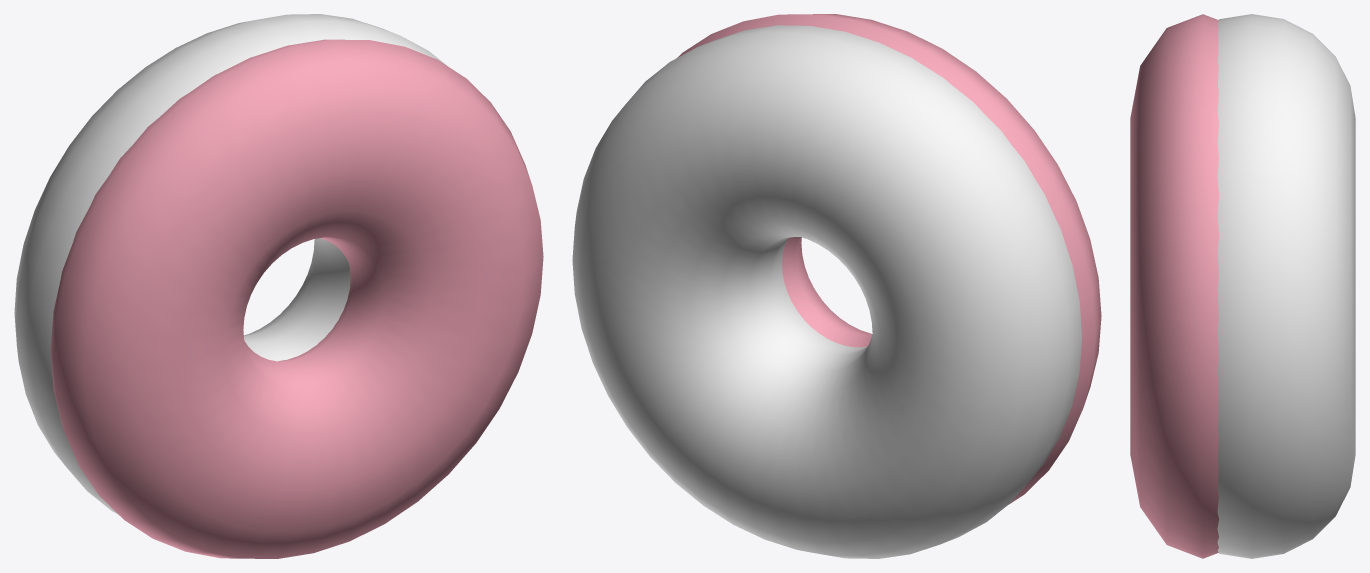
The model's file is shape_donut.glb.
3 renders of one model, left to right at view 1: azimuth 30°, elevation 25°; view 2: azimuth 150°, elevation 25°; view 3: azimuth 270°, elevation 25°, orthographic. The views are drawn at different scales.
Visible parts, largest first — view 1: shape_donut; view 2: shape_donut; view 3: shape_donut.
Boxes of the visible parts, x1,y1,x2,y2 form: shape_donut: (14, 14, 543, 558); shape_donut: (572, 14, 1101, 558); shape_donut: (1130, 14, 1355, 558).
Bounding box in the file's own units: 1 × 1 × 0.413.
